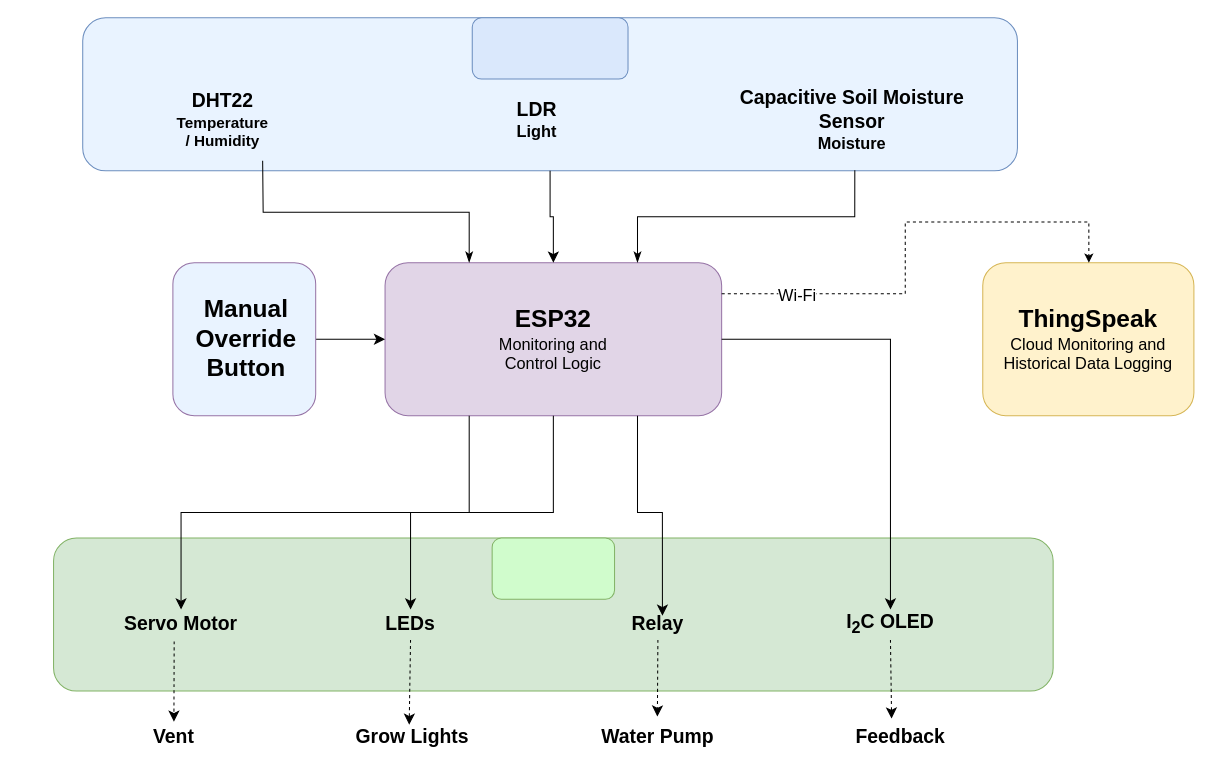
The diagram is 1212 pixels wide and 770 high, and some of its shapes have lost their labels. The centre of each missing label's shape, as x and y in pixels:
INPUTS: the point at 549,48
OUTPUTS: the point at 553,568
